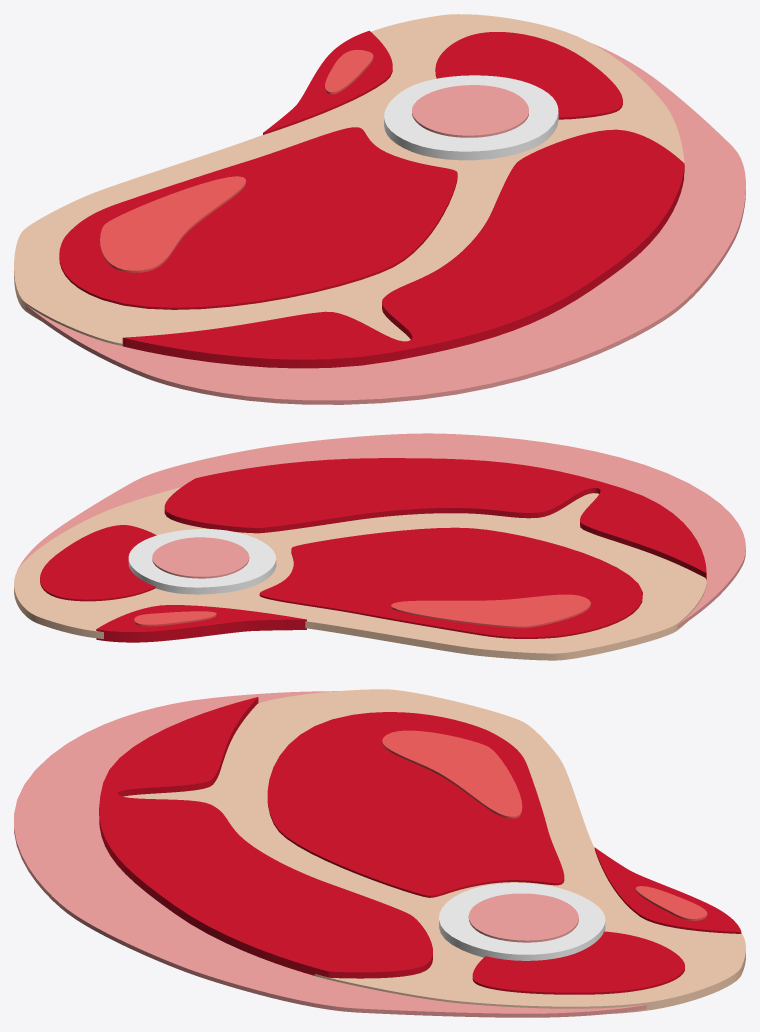
Rendered from emoji_u1f969.glb.
3 views of the same model, one above another, from view 1: azimuth 30°, elevation 25°; view 2: azimuth 150°, elevation 25°; view 3: azimuth 270°, elevation 25° (orthographic). The views are drawn at different scales.
Parts seen in each view (by area): view 1: emoji_u1f969; view 2: emoji_u1f969; view 3: emoji_u1f969.
Boxes of the visible parts, x1,y1,x2,y2 form: emoji_u1f969: [14, 14, 745, 404]; emoji_u1f969: [14, 433, 745, 660]; emoji_u1f969: [14, 689, 745, 1017].
Bounding box in the file's own units: 0.0338 × 0.0014 × 0.0324.
